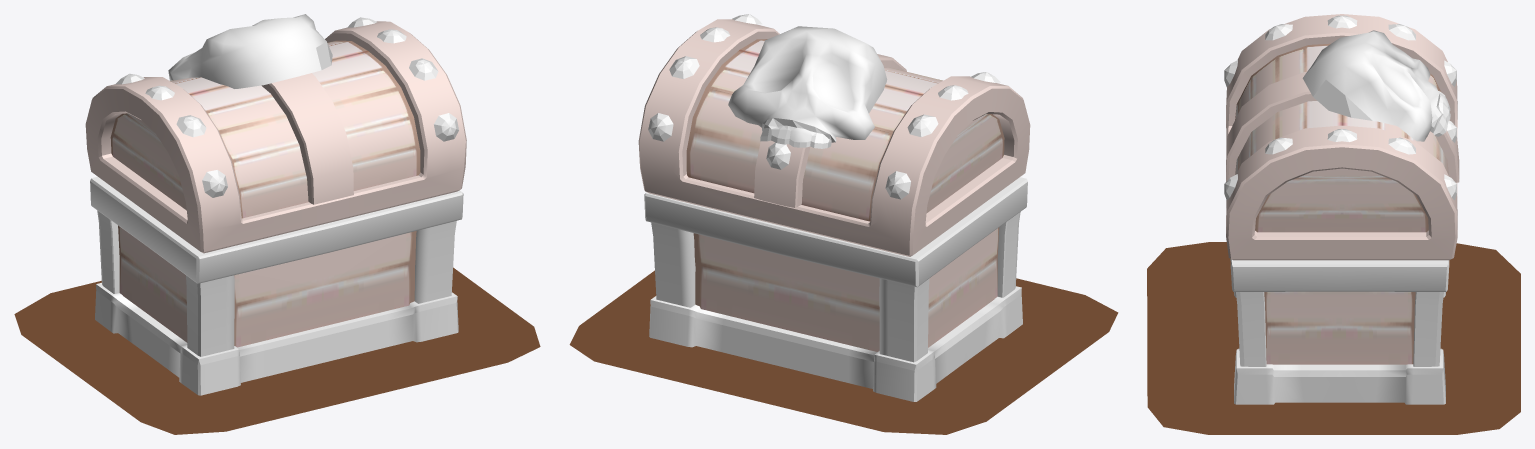
The model's file is TreasureChestPirate.fbx.
3 views of the same model, side by side, from view 1: azimuth 30°, elevation 25°; view 2: azimuth 150°, elevation 25°; view 3: azimuth 270°, elevation 25° (orthographic). The views are drawn at different scales.
Visible parts, largest first — view 1: ChestLid, ChestBodyPirate, ShadowSquare; view 2: ChestLid, ChestBodyPirate, ShadowSquare; view 3: ChestLid, ShadowSquare, ChestBodyPirate.
Part boxes in pixels (bbox=[...]): ChestLid: bbox=[85, 14, 466, 253]; ChestBodyPirate: bbox=[90, 176, 463, 395]; ShadowSquare: bbox=[14, 267, 540, 434]; ChestLid: bbox=[638, 14, 1030, 256]; ChestBodyPirate: bbox=[644, 177, 1027, 401]; ShadowSquare: bbox=[569, 270, 1118, 434]; ChestLid: bbox=[1224, 14, 1459, 260]; ShadowSquare: bbox=[1147, 242, 1520, 434]; ChestBodyPirate: bbox=[1230, 259, 1449, 404].
Bounding box in the file's own units: 1.09 × 0.7932 × 0.8915.
2 materials, 1 textured.
